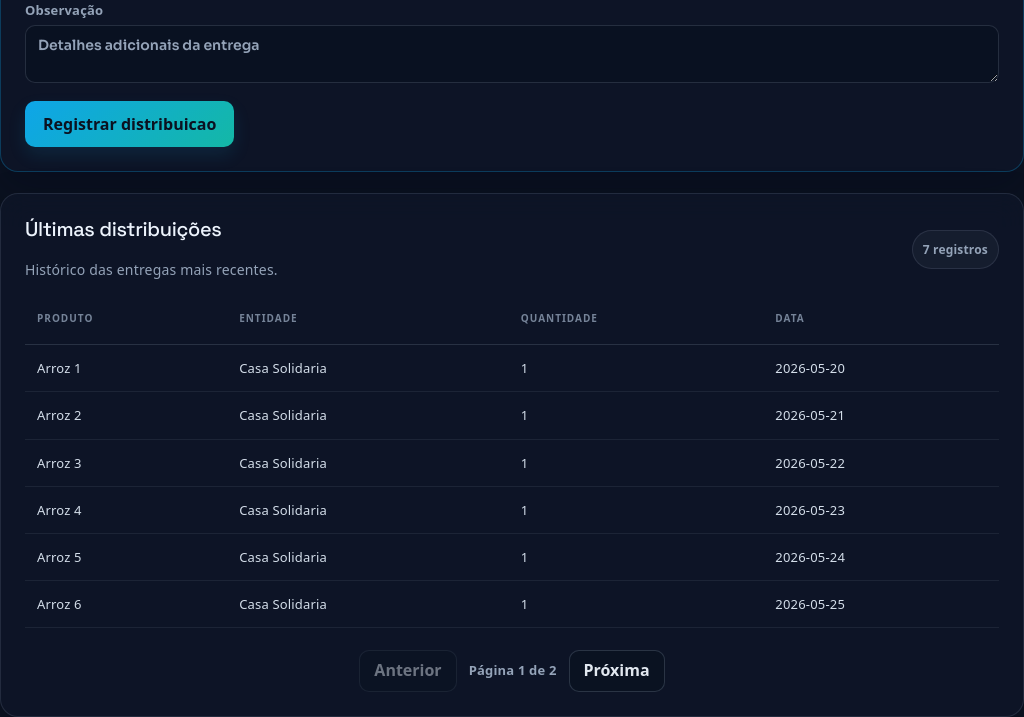
pagina as distribuicoes quando ha mais registros que o limite
(page scrolled)
Expected: the text "Arroz 1" is shown, [25,345,227,392]
Expected: the text "Arroz 7" is not shown
Click the button "Próxima" at x=617, y=671, box [568,650,665,692]
(page scrolled)
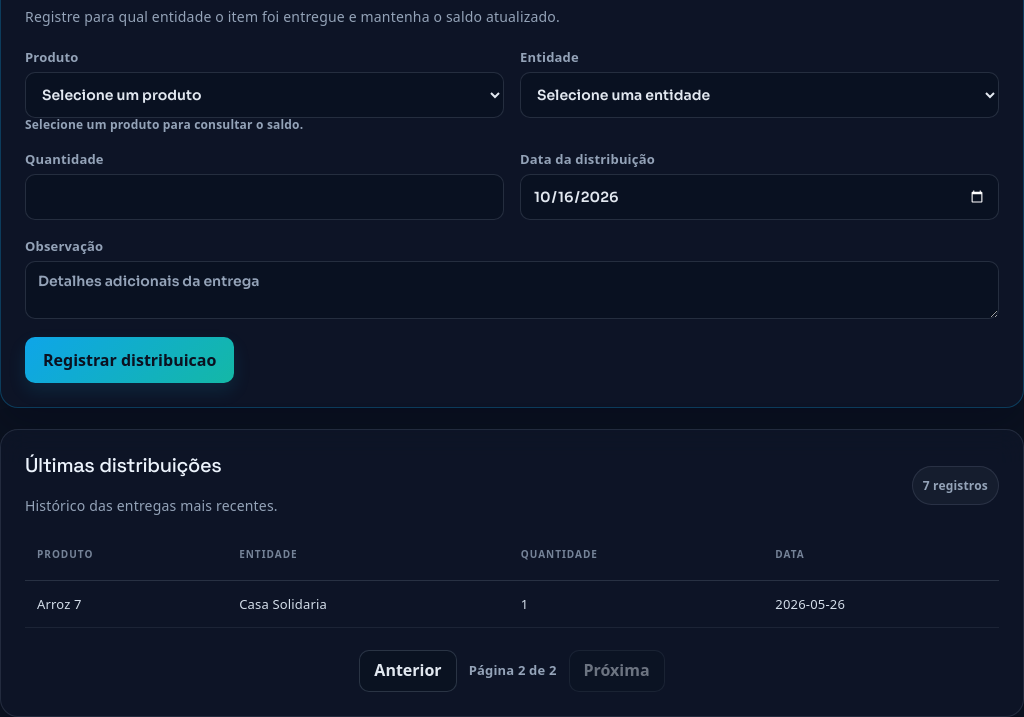
Now the text "Arroz 7" is shown, box [25,581,227,628]
Now the text "Arroz 1" is gone
